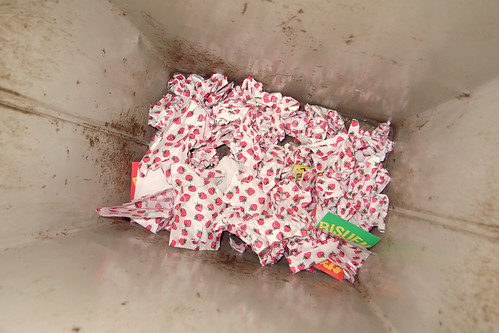trash: (101, 54, 415, 284)
